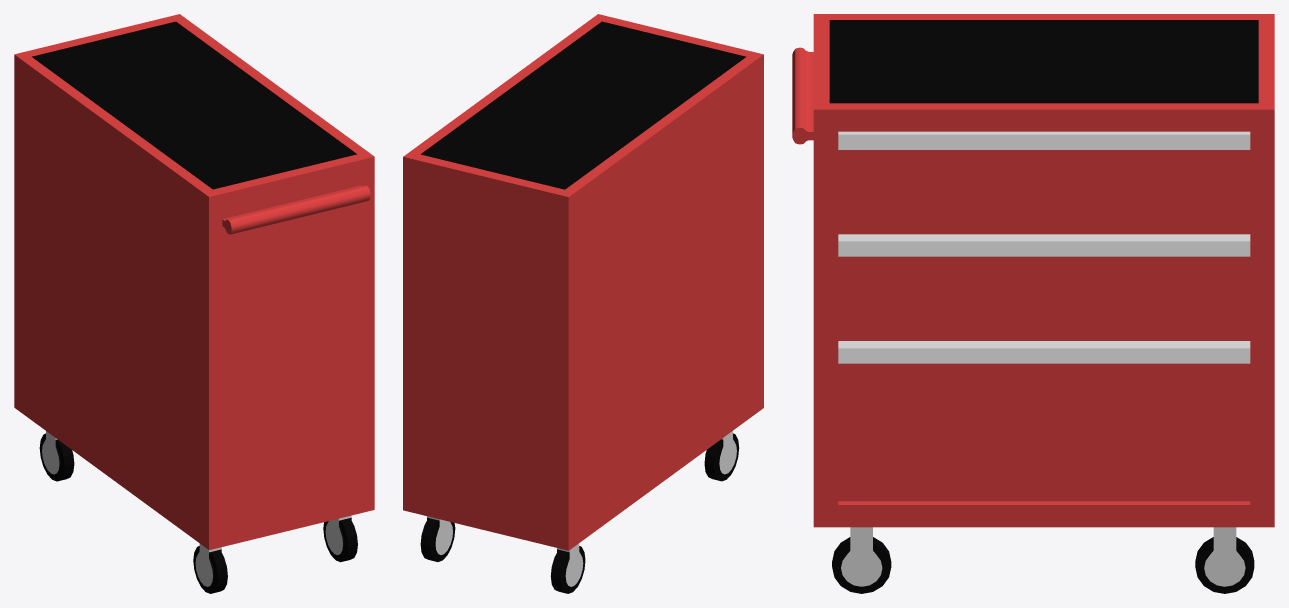
File: cabinet.fbx
3 views of the same model, side by side, from view 1: azimuth 30°, elevation 25°; view 2: azimuth 150°, elevation 25°; view 3: azimuth 270°, elevation 25° (orthographic). The views are drawn at different scales.
Parts seen in each view (by area): view 1: SM_Cabinet; view 2: SM_Cabinet; view 3: SM_Cabinet.
Boxes of the visible parts, x1,y1,x2,y2 form: SM_Cabinet: (14,14,374,593); SM_Cabinet: (403,14,763,593); SM_Cabinet: (792,14,1274,593).
Size of the model in its own units: 60.14 by 137 by 123.
